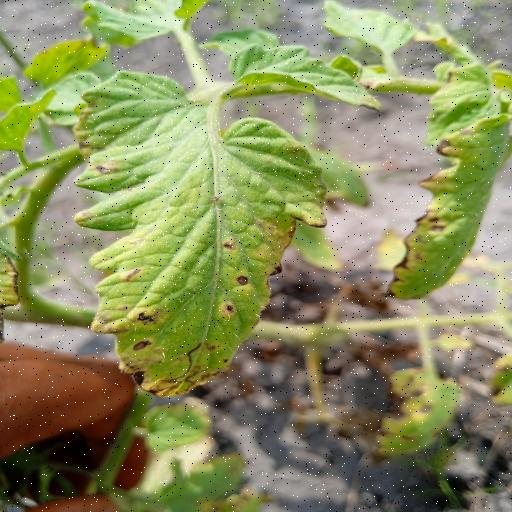Tomato_Brown_Spots: (70, 59, 379, 397), (388, 56, 512, 304)
